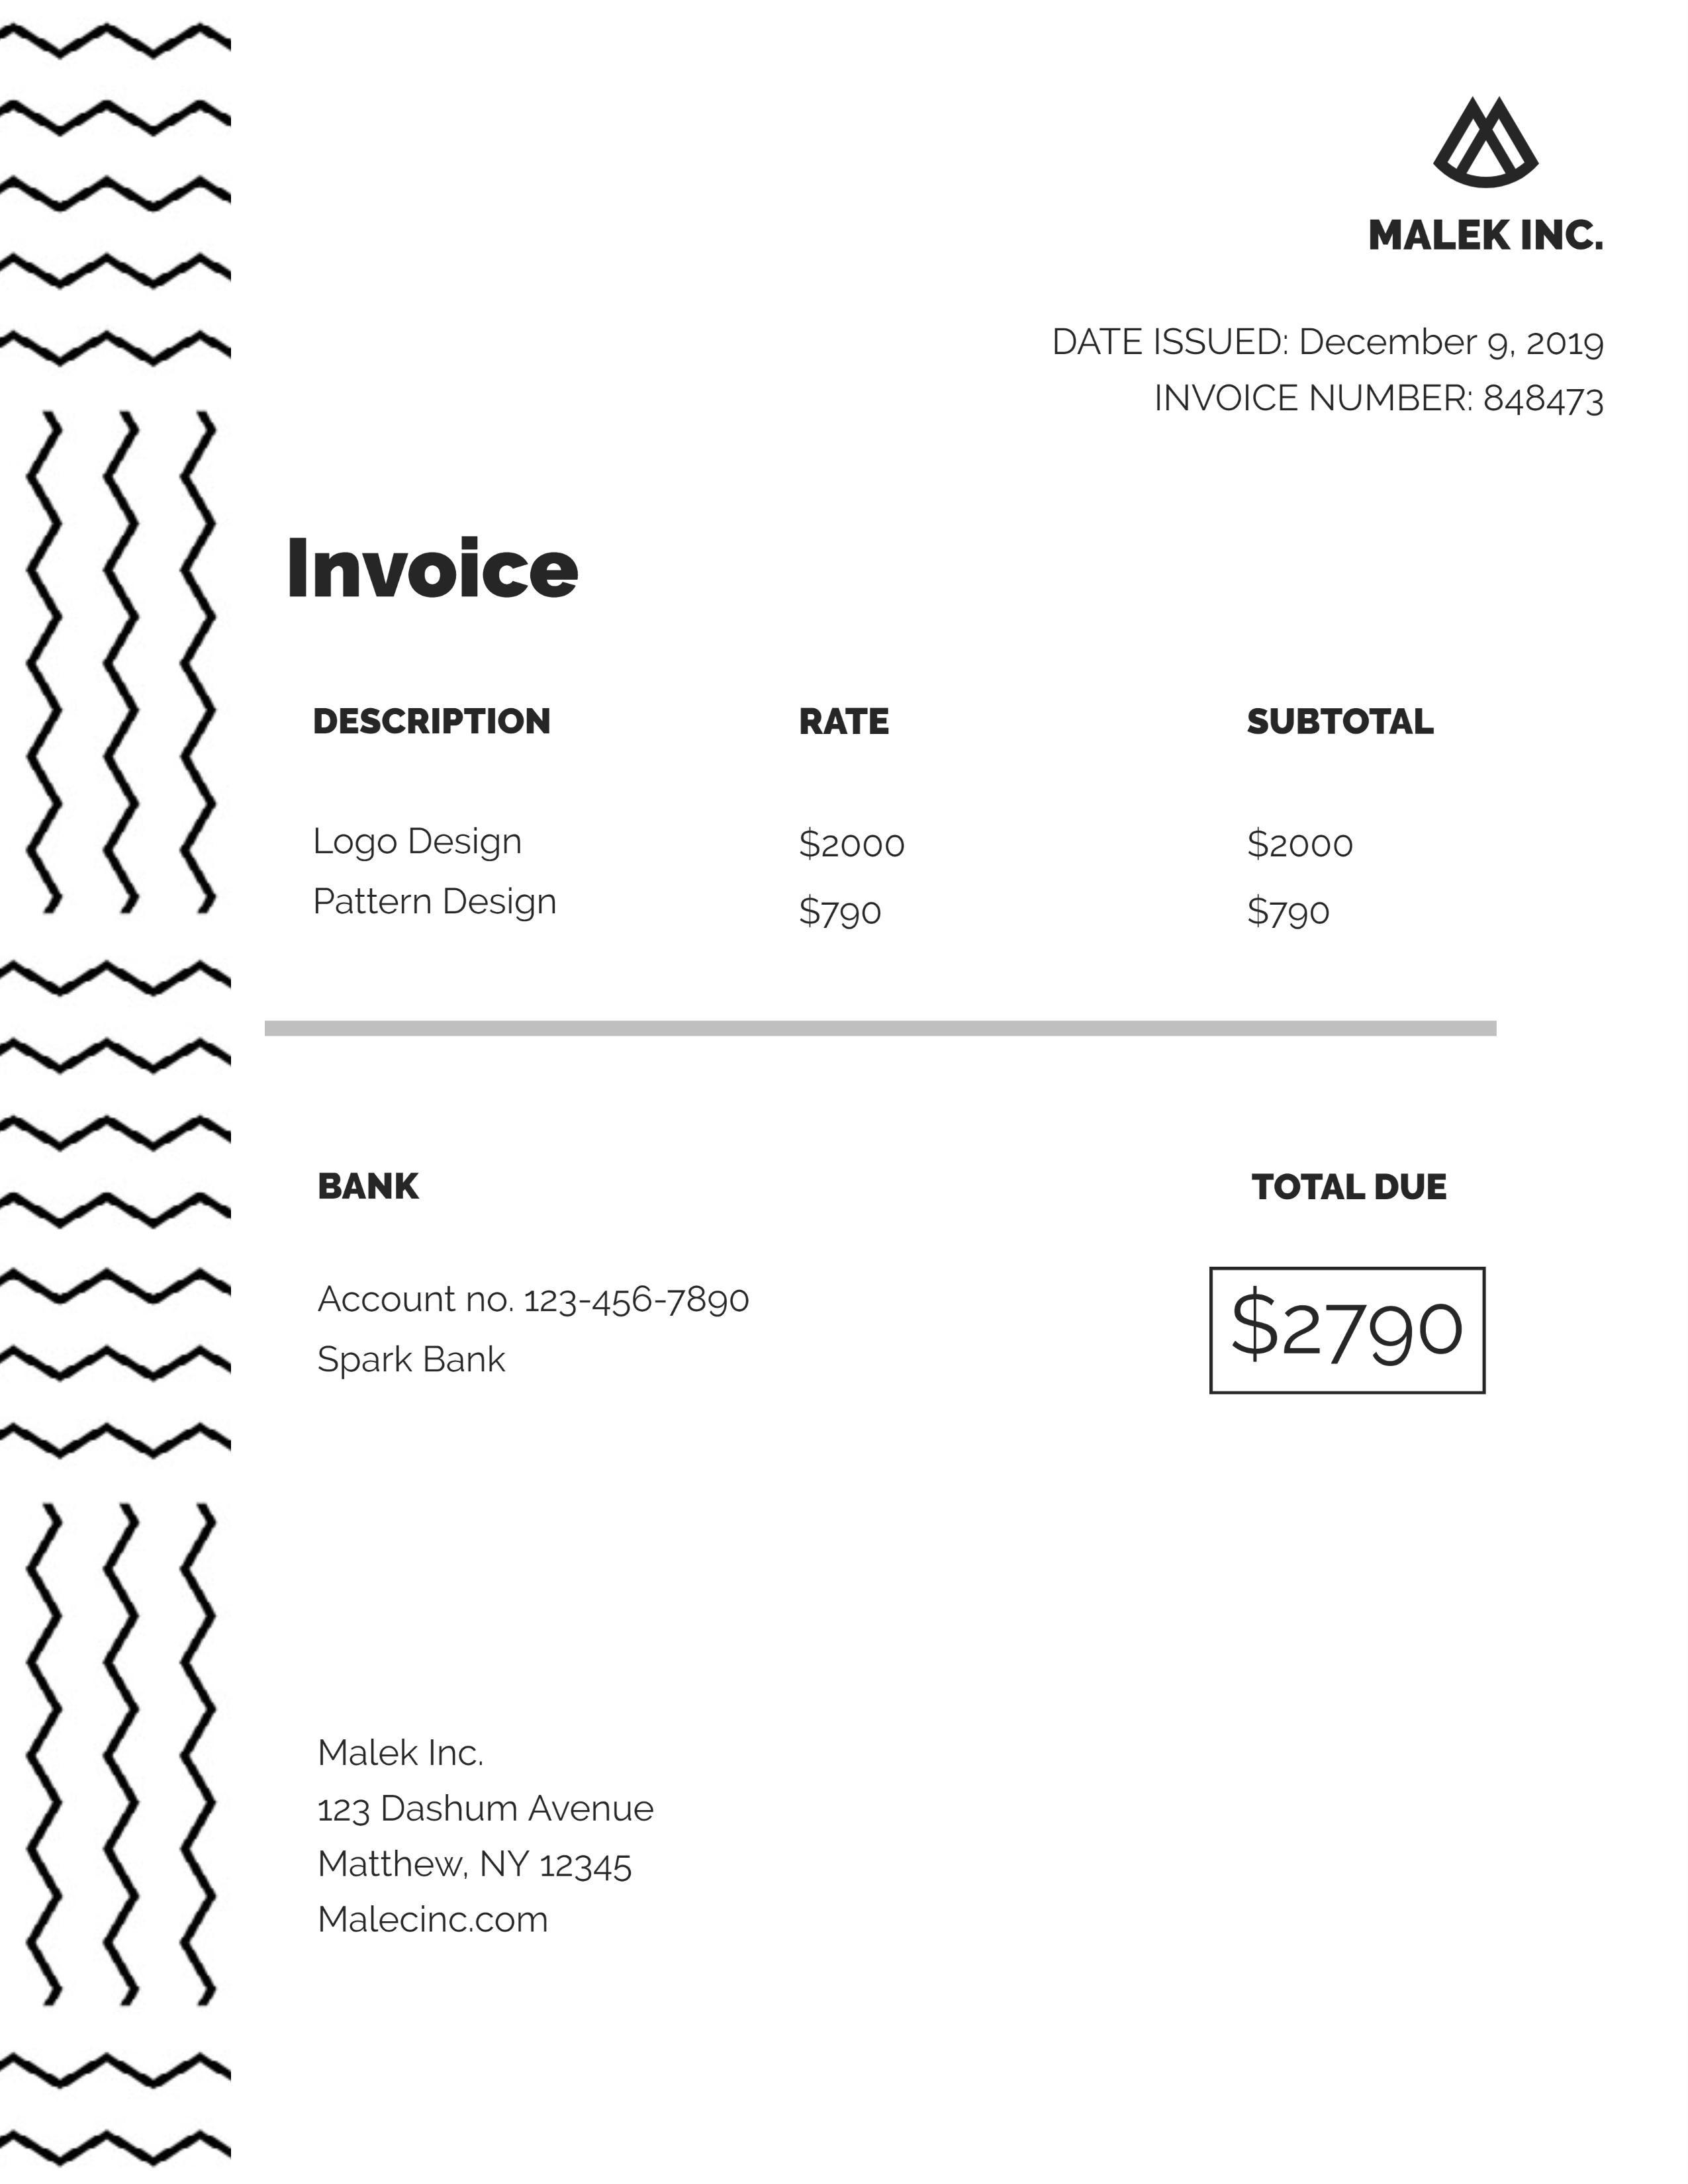ROI: (262, 691, 1493, 1032), (294, 1152, 796, 1400), (287, 1704, 672, 1954), (1044, 301, 1621, 434), (1209, 1163, 1484, 1395)
